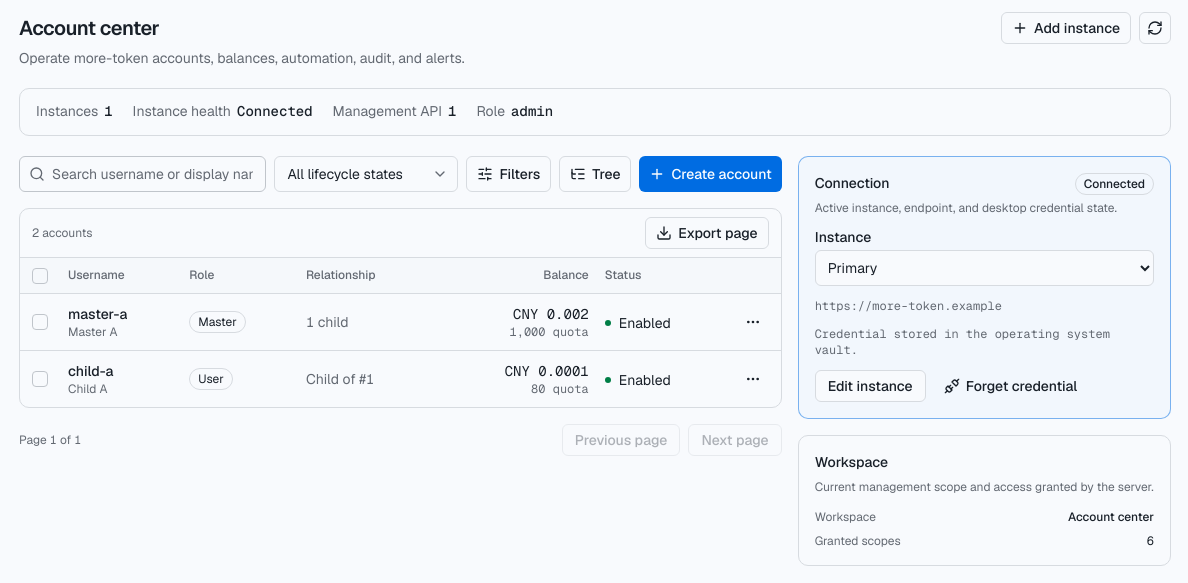
Test: account filters › offers Clear filters on an empty filtered page and resets every filter
Type "nobody" into the field labelled "Search username or display name" at (143, 174), box [19, 156, 266, 192]
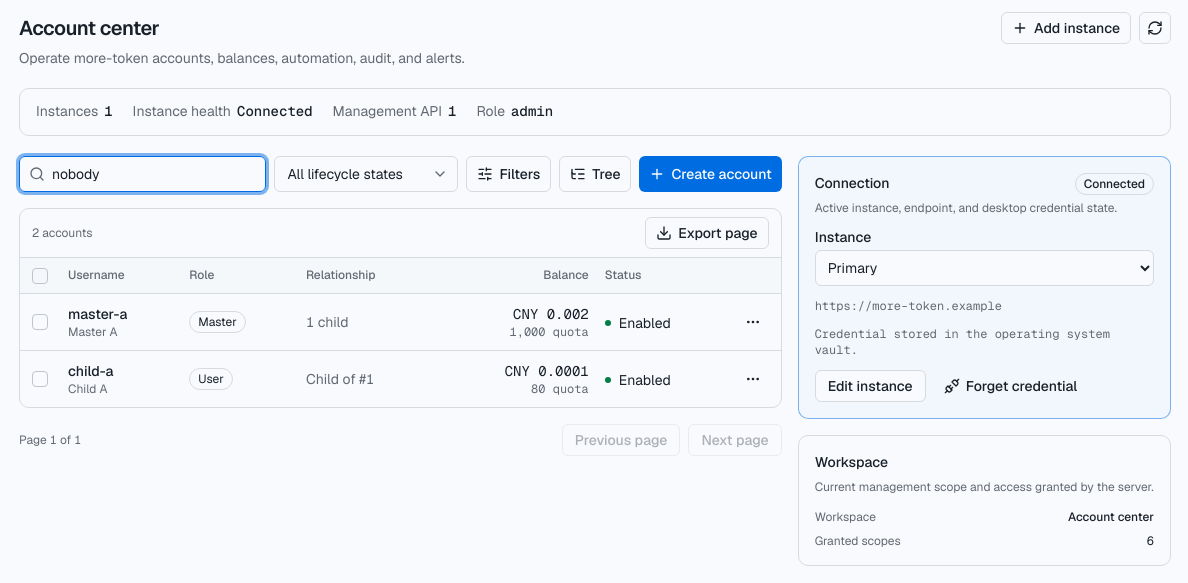
Select "Closing" in the dropdown named "Lifecycle" at (366, 174), box [274, 156, 458, 192]
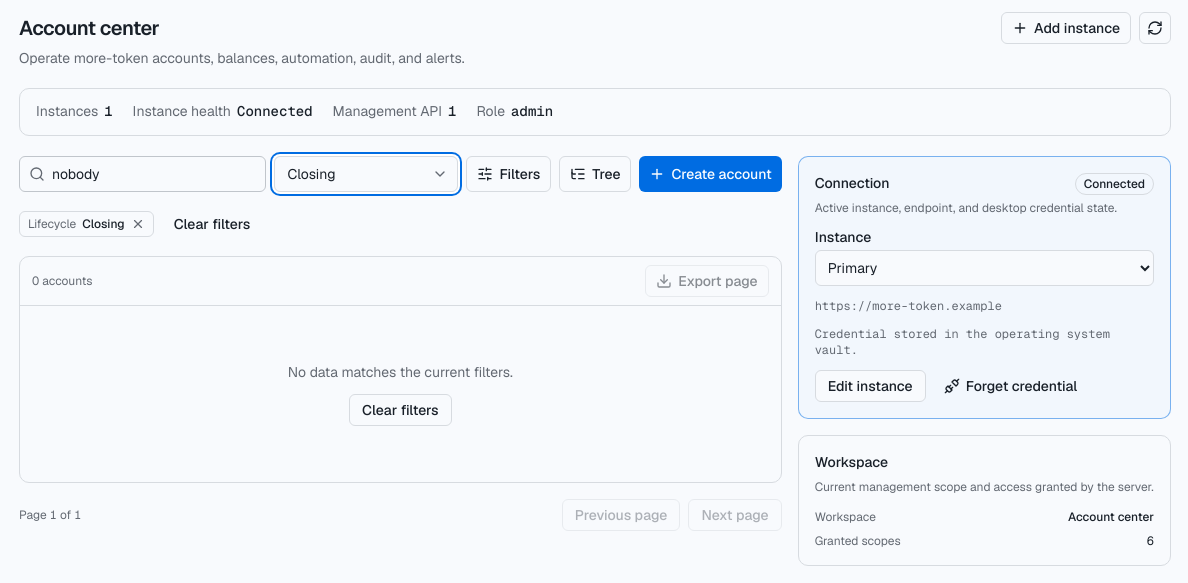
Check: the text "No data matches the current filters." is shown, box [288, 363, 513, 381]
Check: the number of buttons "Clear filters" is 2
Click the button "Clear filters" below "No data matches the current filters." at (400, 410), box [349, 394, 452, 426]
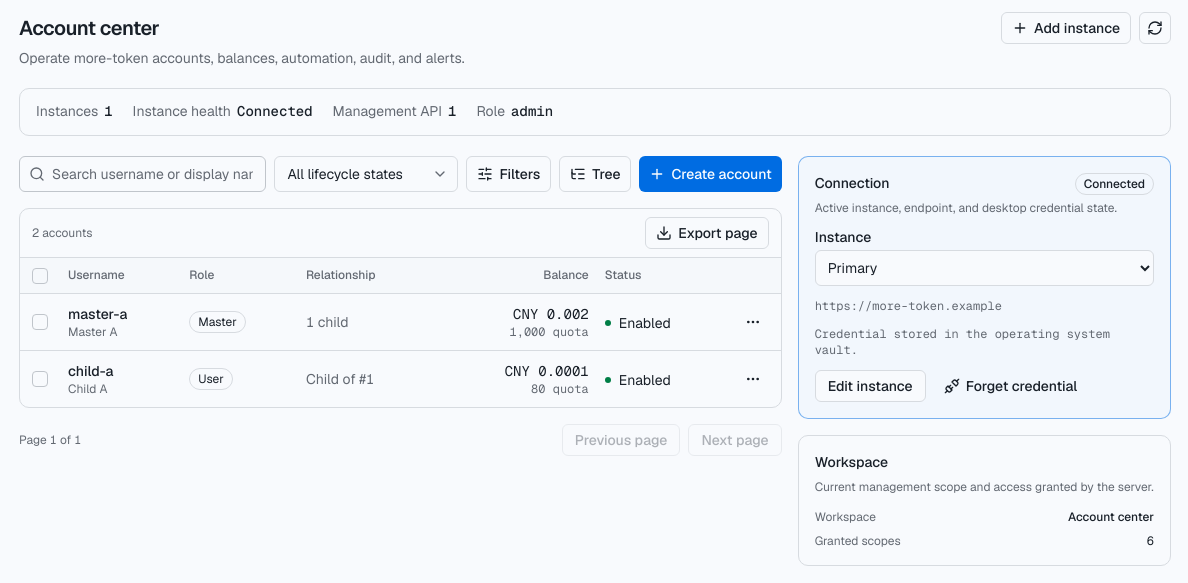
Check: the table is shown, box [20, 258, 781, 407]
Check: the field labelled "Search username or display name" is empty, box [19, 156, 266, 192]
